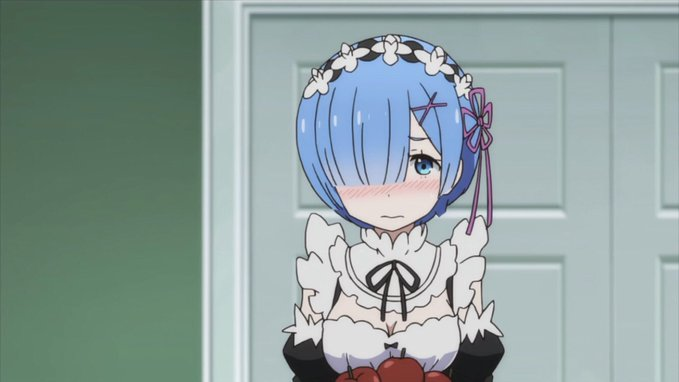rem: (279, 31, 499, 382)
